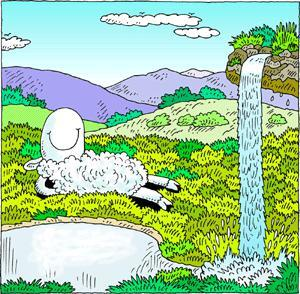sheep: (14, 102, 185, 212)
